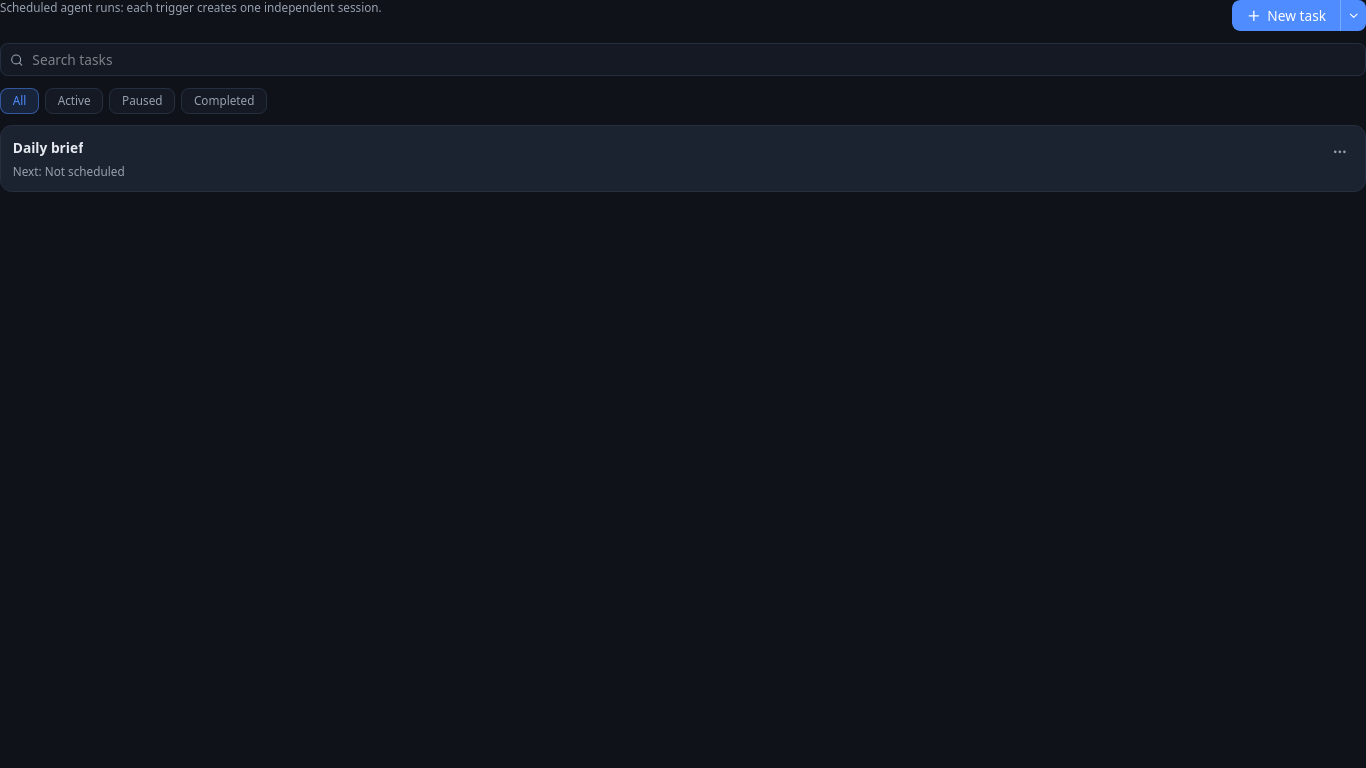
Scenario: AutomationsView › names a run skipped for a busy conversation in words
Step 1. Click the text "Daily brief" → (48, 148), box [13,138,84,158]
(page scrolled)
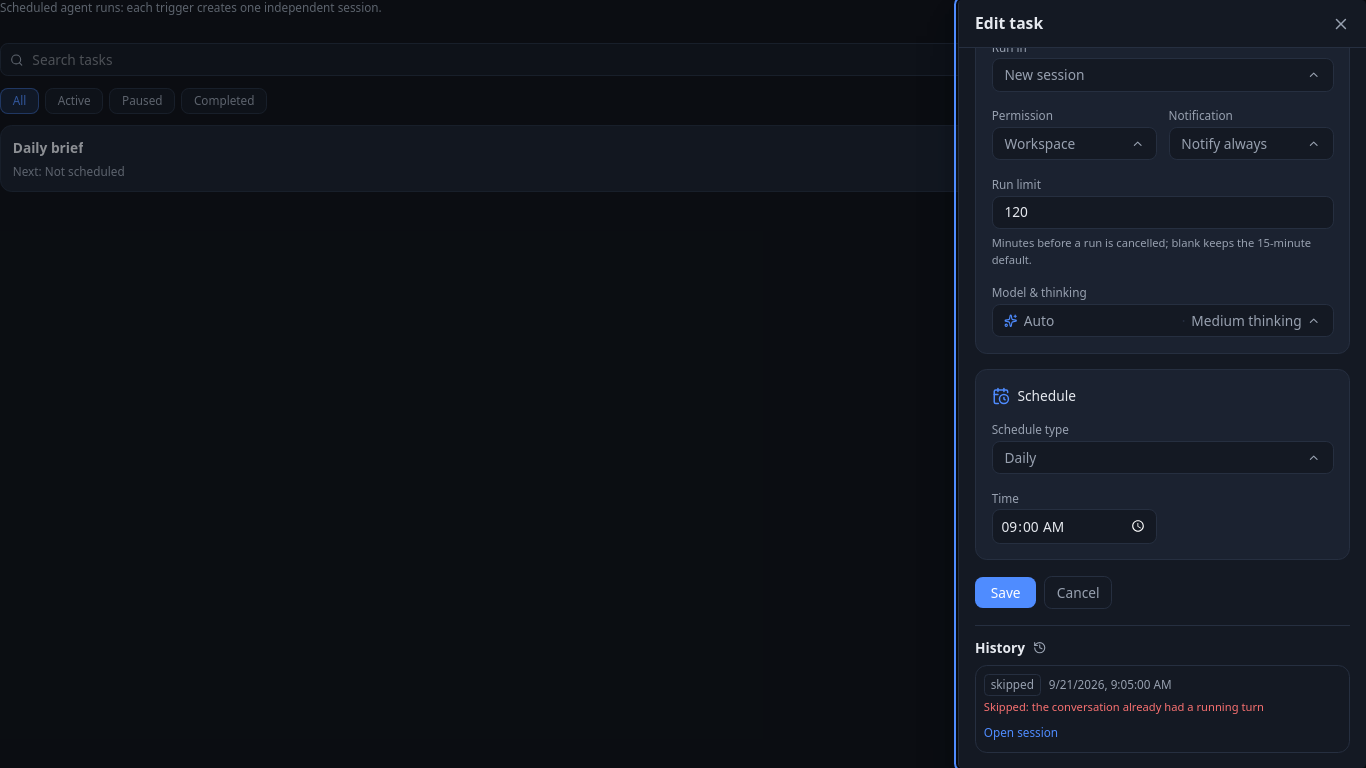
expect the text "skipped" is shown: met, box [984,674,1041,696]
expect the text "Skipped: the conversation already had a running turn" is shown: met, box [984,700,1264,714]
